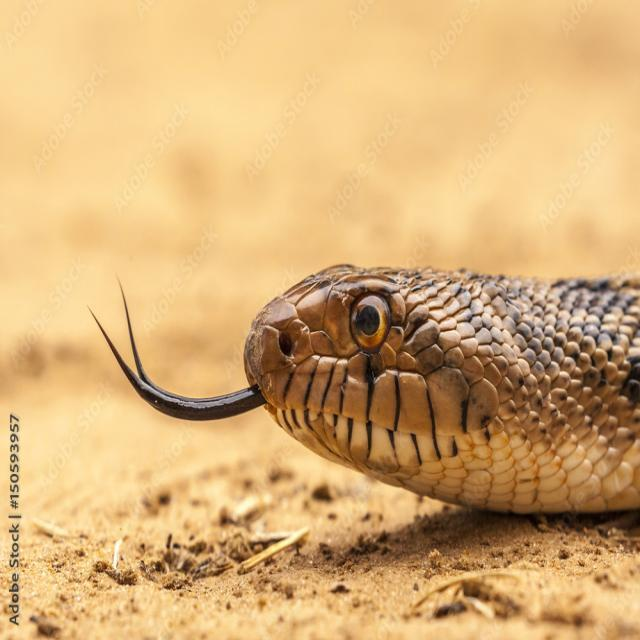Snake: (79, 160, 640, 534)
